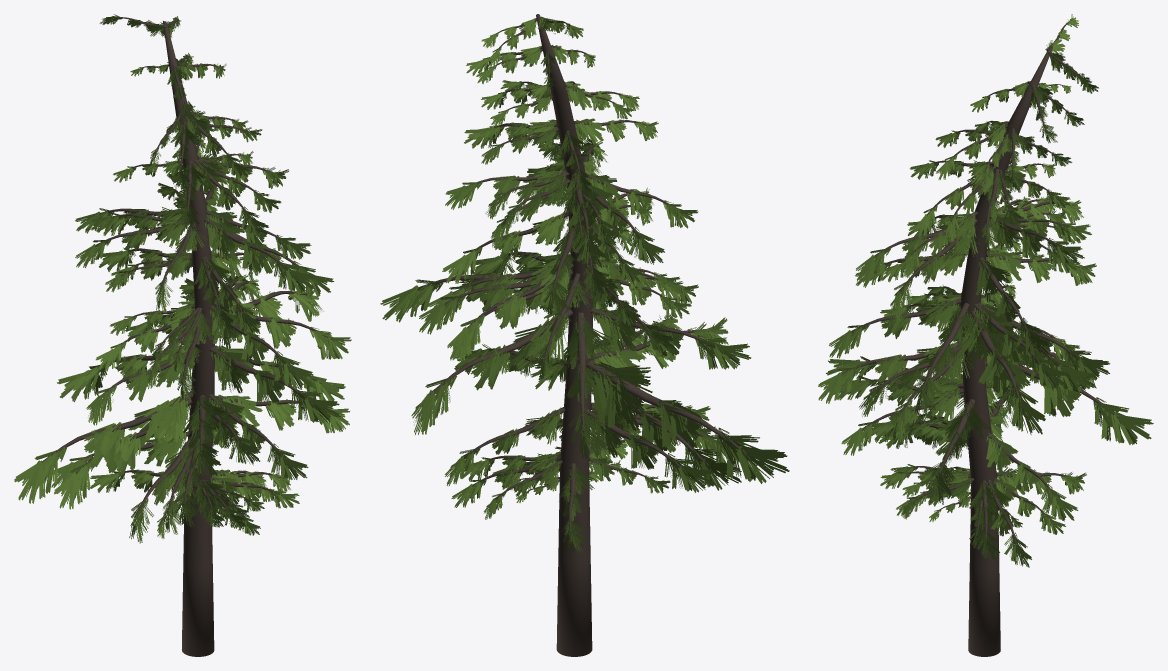
File: Arbol2.fbx
3 views of the same model, side by side, from view 1: azimuth 30°, elevation 25°; view 2: azimuth 150°, elevation 25°; view 3: azimuth 270°, elevation 25° (orthographic). The views are drawn at different scales.
Parts seen in each view (by area): view 1: A1.012, A1.012|H1.003|Dupli|41, A1.012|H1.003|Dupli|78, A1.012|H1.003|Dupli|79, A1.012|H1.003|Dupli|80, A1.012|H1.003|Dupli|34, A1.012|H1.003|Dupli|45, A1.012|H1.003|Dupli|95, A1.012|H1.003|Dupli|18, A1.012|H1.003|Dupli|62, A1.012|H1.003|Dupli|77, A1.012|H1.003|Dupli|94 (+39 smaller); view 2: A1.012, A1.012|H1.003|Dupli|41, A1.012|H1.003|Dupli|123, A1.012|H1.003|Dupli|18, A1.012|H1.003|Dupli|45, A1.012|H1.003|Dupli|33, A1.012|H1.003|Dupli|34, A1.012|H1.003|Dupli|125, A1.012|H1.003|Dupli|108, A1.012|H1.003|Dupli|106, A1.012|H1.003|Dupli|117, A1.012|H1.003|Dupli|112 (+36 smaller); view 3: A1.012, A1.012|H1.003|Dupli|106, A1.012|H1.003|Dupli|123, A1.012|H1.003|Dupli|94, A1.012|H1.003|Dupli|117, A1.012|H1.003|Dupli|80, A1.012|H1.003|Dupli|108, A1.012|H1.003|Dupli|95, A1.012|H1.003|Dupli|78, A1.012|H1.003|Dupli|113, A1.012|H1.003|Dupli|85, A1.012|H1.003|Dupli|77 (+36 smaller).
Boxes of the visible parts, <box> form: A1.012: <box>163,21,215,656</box>; A1.012|H1.003|Dupli|41: <box>14,391,193,503</box>; A1.012|H1.003|Dupli|78: <box>209,347,340,423</box>; A1.012|H1.003|Dupli|79: <box>204,218,315,292</box>; A1.012|H1.003|Dupli|80: <box>209,305,313,389</box>; A1.012|H1.003|Dupli|34: <box>54,399,192,509</box>; A1.012|H1.003|Dupli|45: <box>86,350,195,425</box>; A1.012|H1.003|Dupli|95: <box>215,302,351,359</box>; A1.012|H1.003|Dupli|18: <box>57,345,190,402</box>; A1.012|H1.003|Dupli|62: <box>183,395,228,477</box>; A1.012|H1.003|Dupli|77: <box>208,394,308,479</box>; A1.012|H1.003|Dupli|94: <box>215,394,349,433</box>; A1.012: <box>536,14,593,656</box>; A1.012|H1.003|Dupli|41: <box>586,360,789,483</box>; A1.012|H1.003|Dupli|123: <box>411,308,573,434</box>; A1.012|H1.003|Dupli|18: <box>560,312,612,462</box>; A1.012|H1.003|Dupli|45: <box>590,307,751,369</box>; A1.012|H1.003|Dupli|33: <box>584,409,715,492</box>; A1.012|H1.003|Dupli|34: <box>588,371,741,490</box>; A1.012|H1.003|Dupli|125: <box>450,263,573,360</box>; A1.012|H1.003|Dupli|108: <box>442,212,568,283</box>; A1.012|H1.003|Dupli|106: <box>380,266,544,322</box>; A1.012|H1.003|Dupli|117: <box>444,407,565,485</box>; A1.012|H1.003|Dupli|112: <box>419,269,570,334</box>; A1.012: <box>960,46,1052,656</box>; A1.012|H1.003|Dupli|106: <box>956,310,1045,434</box>; A1.012|H1.003|Dupli|123: <box>981,350,1153,444</box>; A1.012|H1.003|Dupli|94: <box>924,399,988,504</box>; A1.012|H1.003|Dupli|117: <box>986,432,1078,521</box>; A1.012|H1.003|Dupli|80: <box>829,298,961,358</box>; A1.012|H1.003|Dupli|108: <box>975,257,1049,354</box>; A1.012|H1.003|Dupli|95: <box>913,303,977,421</box>; A1.012|H1.003|Dupli|78: <box>818,341,961,403</box>; A1.012|H1.003|Dupli|113: <box>974,303,1066,388</box>; A1.012|H1.003|Dupli|85: <box>889,219,979,323</box>; A1.012|H1.003|Dupli|77: <box>841,388,964,455</box>.
Size of what is drawn, in the model's own units: 4469 by 7786 by 3871.
